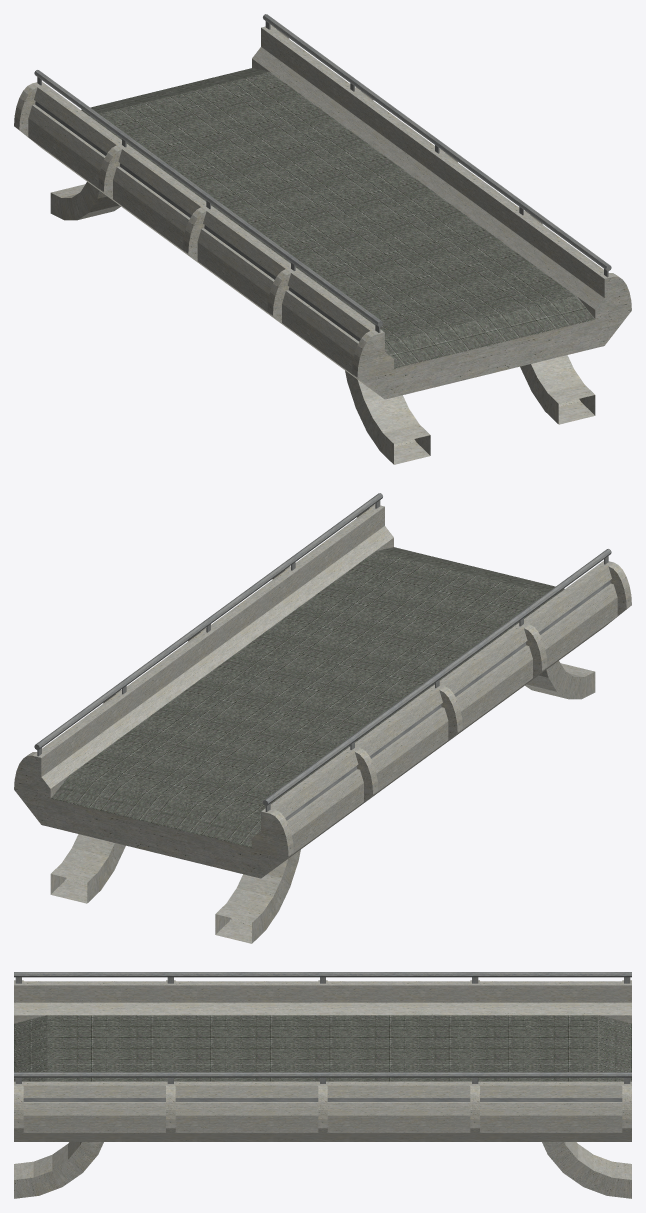
The model's file is thm_corl_imprv_bridge_sm_s02_l0.fbx.
3 views of the same model, one above another, from view 1: azimuth 30°, elevation 25°; view 2: azimuth 150°, elevation 25°; view 3: azimuth 270°, elevation 25° (orthographic). The views are drawn at different scales.
Parts seen in each view (by area): view 1: mesh_node; view 2: mesh_node; view 3: mesh_node.
Boxes of the visible parts, bbox=[...] form: mesh_node: bbox=[14, 14, 631, 464]; mesh_node: bbox=[14, 493, 631, 943]; mesh_node: bbox=[14, 972, 631, 1198].
Size of the model in its own units: 7.5 by 3.84 by 16.25.
